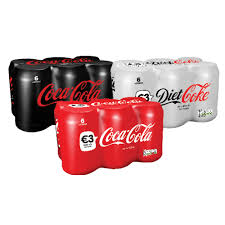can: (58, 97, 98, 178), (186, 56, 224, 130), (14, 63, 55, 130), (96, 97, 132, 165), (131, 101, 166, 161)
